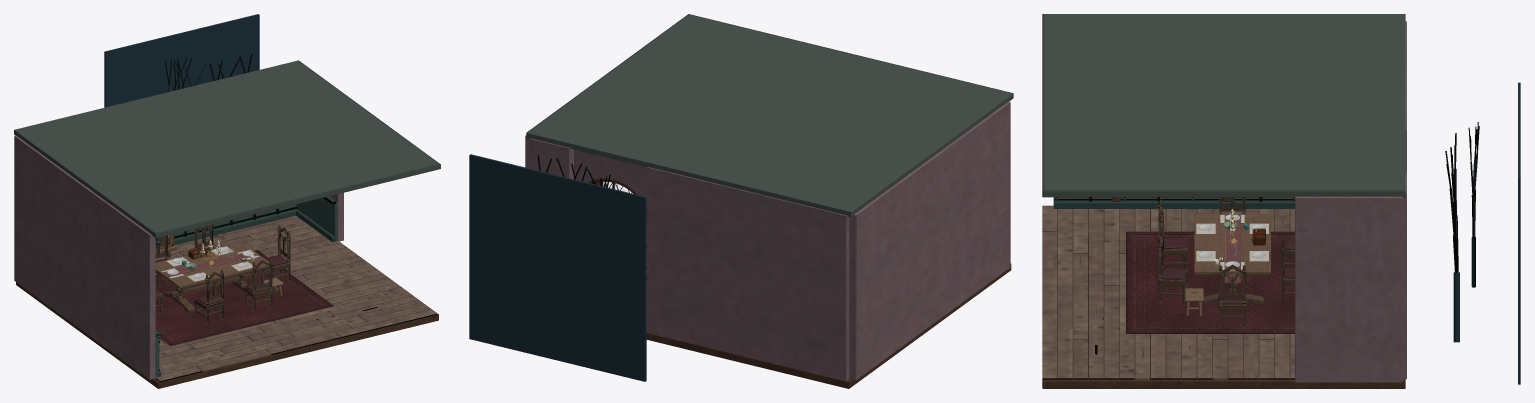
File: dining-room.glb
The picture shows the model from 3 angles, left to right: view 1: azimuth 30°, elevation 25°; view 2: azimuth 150°, elevation 25°; view 3: azimuth 270°, elevation 25°; orthographic projection. The views are drawn at different scales.
Parts seen in each view (by area): view 1: ROOM_architecture__static, ROOM_botanical_rug__static, ROOM_furniture__static, ROOM_fabric__static, ROOM_props__static, ROOM_silver__static; view 2: ROOM_architecture__static; view 3: ROOM_architecture__static, ROOM_botanical_rug__static, ROOM_furniture__static, ROOM_fabric__static, ROOM_props__static, ROOM_silver__static, ROOM_props__stool.
Boxes of the visible parts, left/top/right/bottom form: ROOM_architecture__static: left=14, top=14, right=440, bottom=388; ROOM_botanical_rug__static: left=155, top=250, right=333, bottom=345; ROOM_furniture__static: left=155, top=224, right=290, bottom=323; ROOM_fabric__static: left=155, top=248, right=287, bottom=304; ROOM_props__static: left=162, top=241, right=259, bottom=281; ROOM_silver__static: left=165, top=247, right=254, bottom=280; ROOM_architecture__static: left=469, top=14, right=1013, bottom=388; ROOM_architecture__static: left=1042, top=14, right=1520, bottom=388; ROOM_botanical_rug__static: left=1126, top=231, right=1294, bottom=333; ROOM_furniture__static: left=1158, top=197, right=1294, bottom=328; ROOM_fabric__static: left=1161, top=215, right=1294, bottom=304; ROOM_props__static: left=1196, top=210, right=1268, bottom=270; ROOM_silver__static: left=1198, top=214, right=1266, bottom=268; ROOM_props__stool: left=1179, top=288, right=1203, bottom=315.
Size of the model in its own units: 7.57 by 4.17 by 8.43.
Materials: 12 (5 with a texture image).
